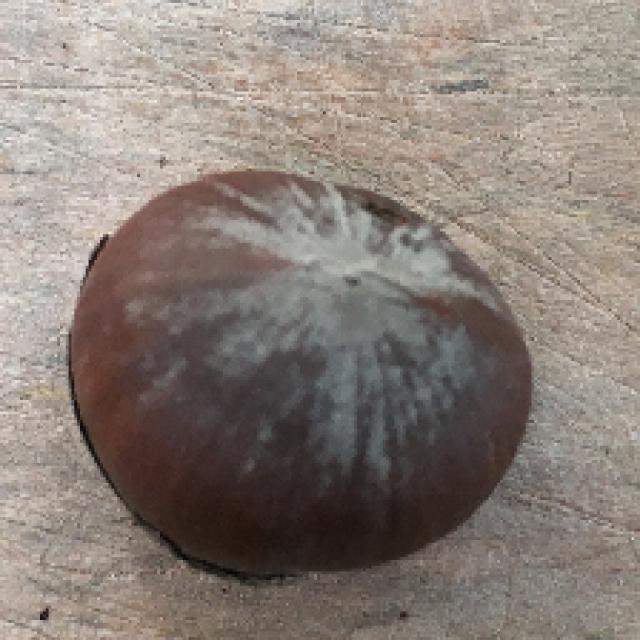DamagedHazelnut: (64, 169, 535, 573)
